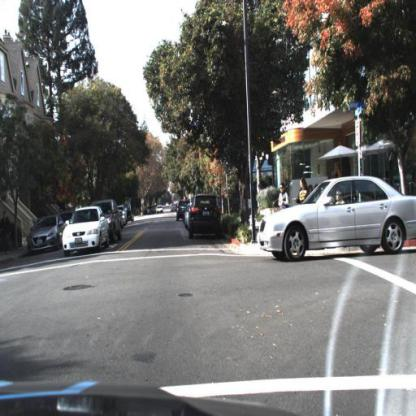car: (260, 176, 416, 260), (62, 205, 111, 258), (28, 213, 67, 260), (190, 193, 222, 241), (103, 199, 121, 245), (176, 199, 188, 217), (170, 205, 178, 215), (157, 206, 165, 214)
pedestrian: (294, 175, 313, 207), (1, 210, 13, 254), (277, 180, 288, 212)
